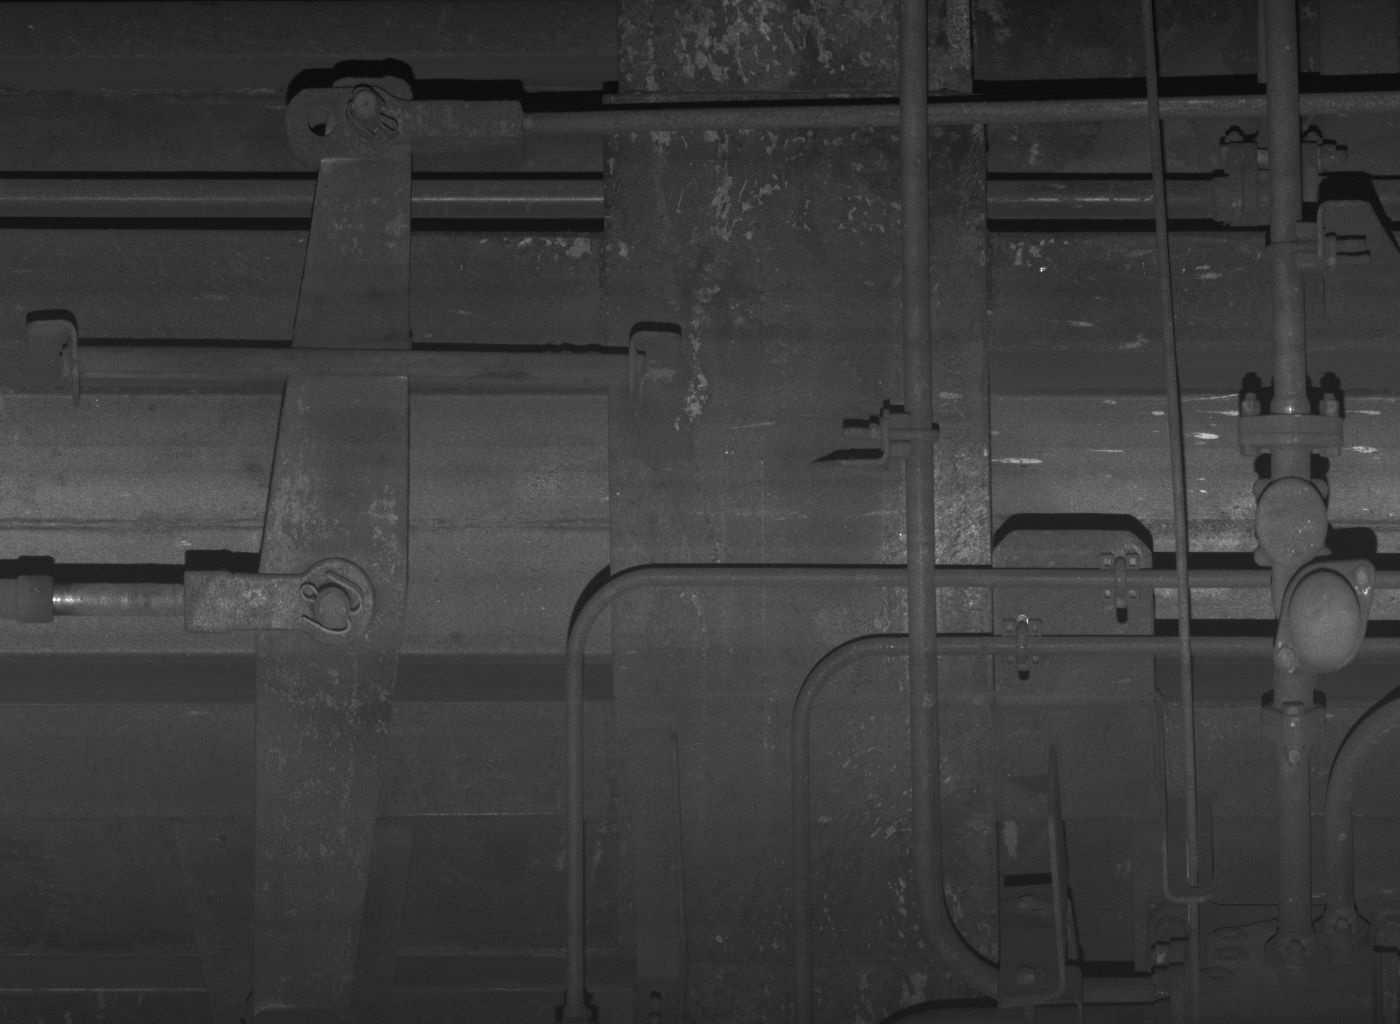normal: (1252, 475, 1334, 567)
